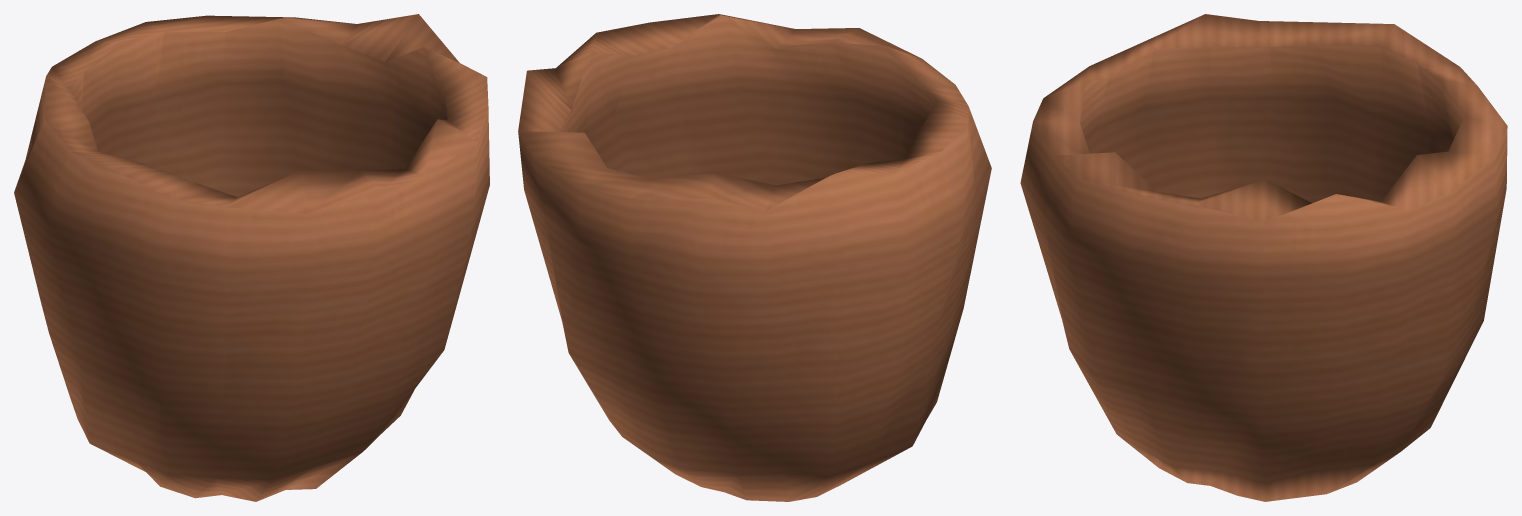
Rendered from cup.glb.
3 views of the same model, side by side, from view 1: azimuth 30°, elevation 25°; view 2: azimuth 150°, elevation 25°; view 3: azimuth 270°, elevation 25° (orthographic). The views are drawn at different scales.
Visible parts, largest first — view 1: cup; view 2: cup; view 3: cup.
Boxes of the visible parts, x1=… form: cup: x1=14, y1=14, x2=489, y2=501; cup: x1=518, y1=14, x2=991, y2=501; cup: x1=1020, y1=14, x2=1507, y2=501.
Bounding box in the file's own units: 0.1871 × 0.1577 × 0.189.
Materials: 1 (1 with a texture image).
